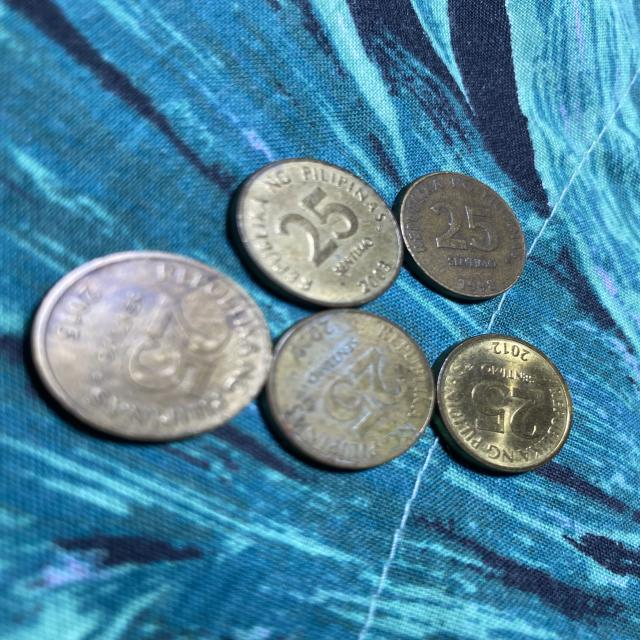25Cent_Old_Front: (128, 300, 223, 398), (325, 351, 415, 432), (281, 184, 357, 267), (462, 377, 548, 440), (432, 201, 502, 252)
